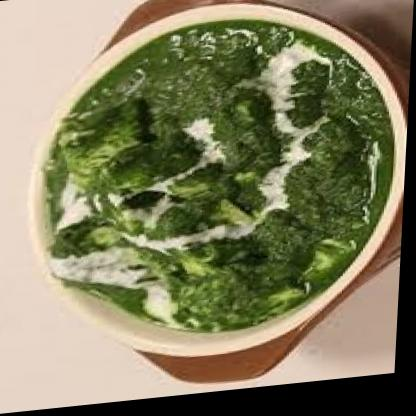palak_paneer: (38, 10, 404, 352)
